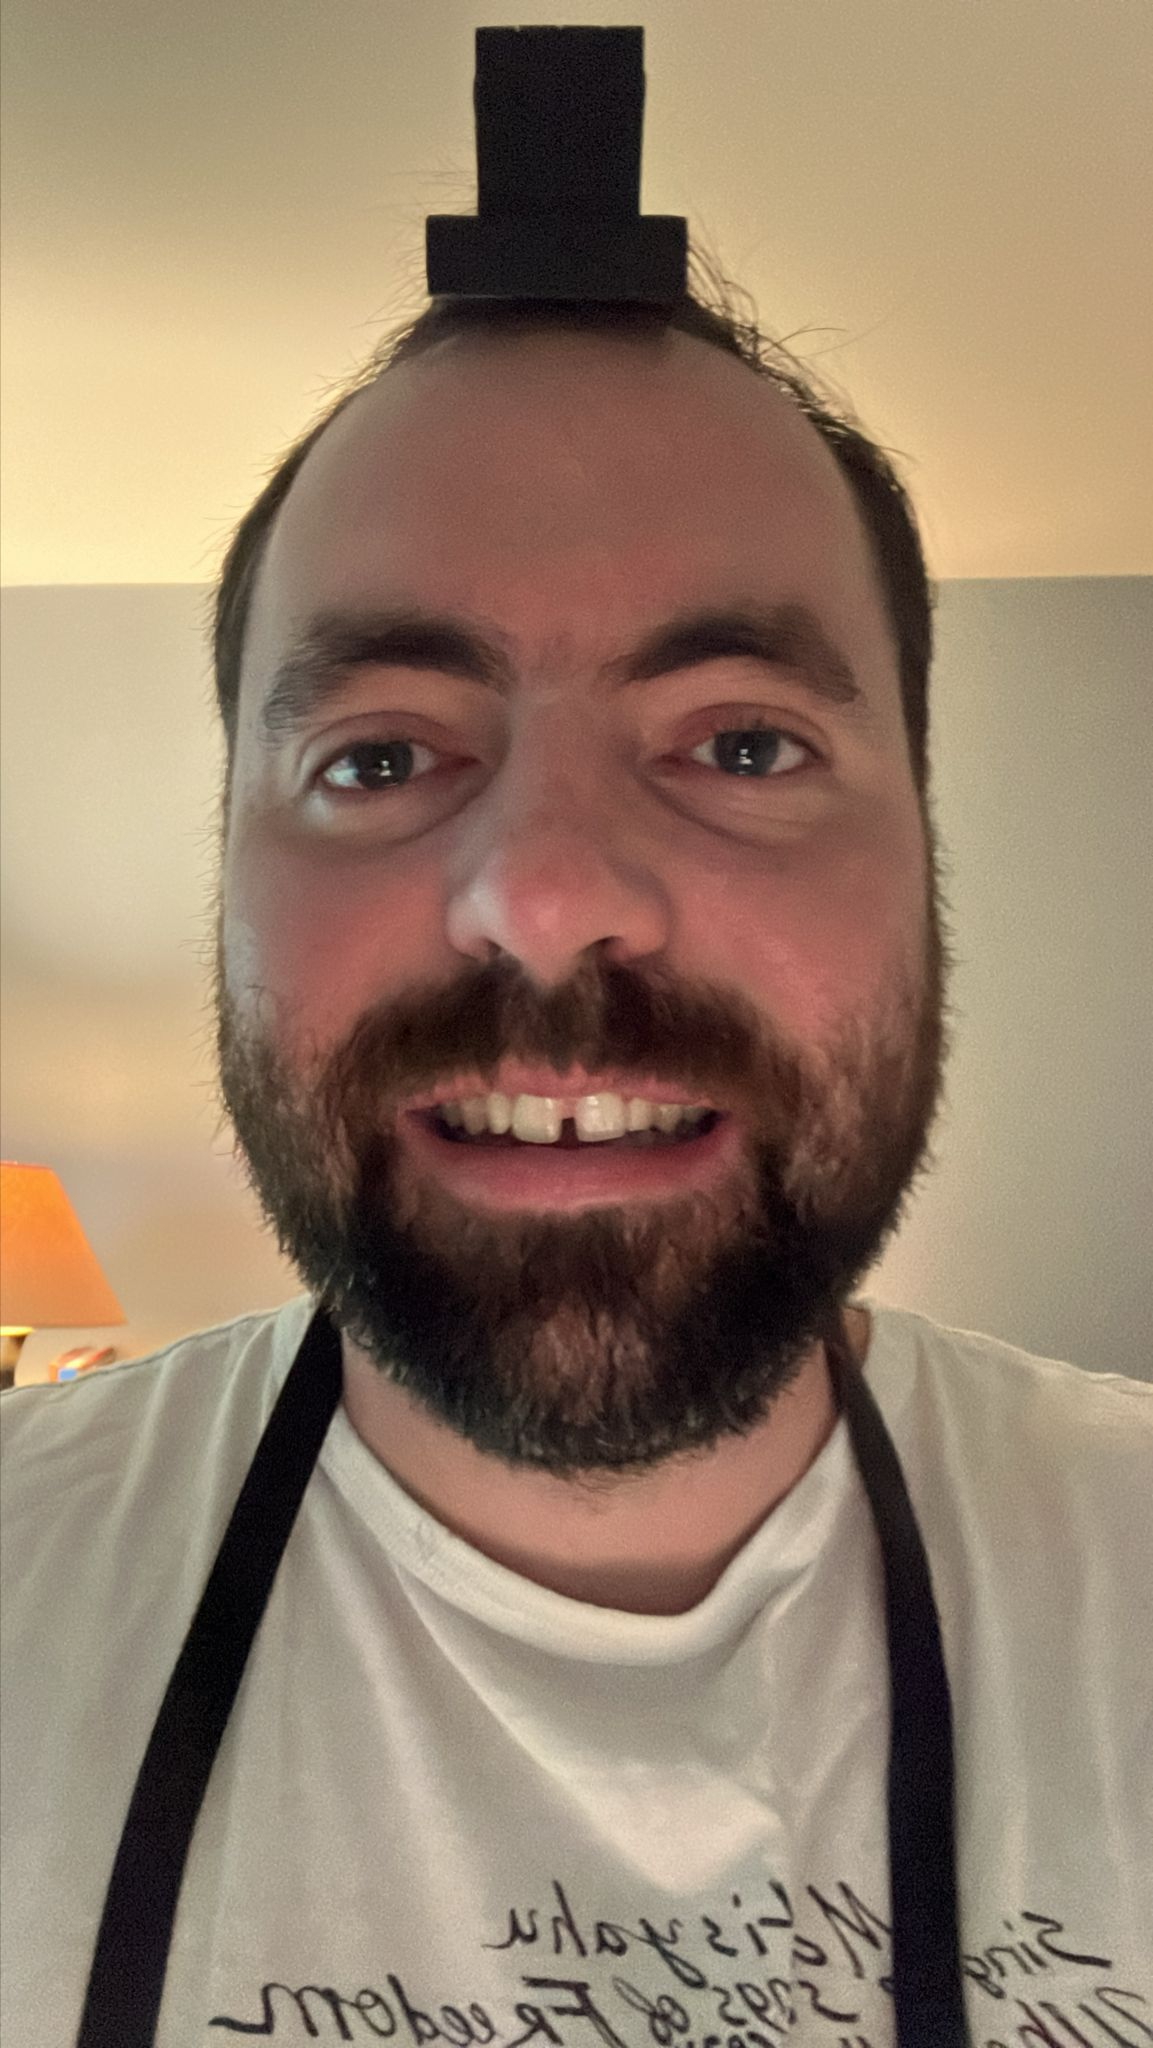tefillin: (415, 25, 692, 312)
